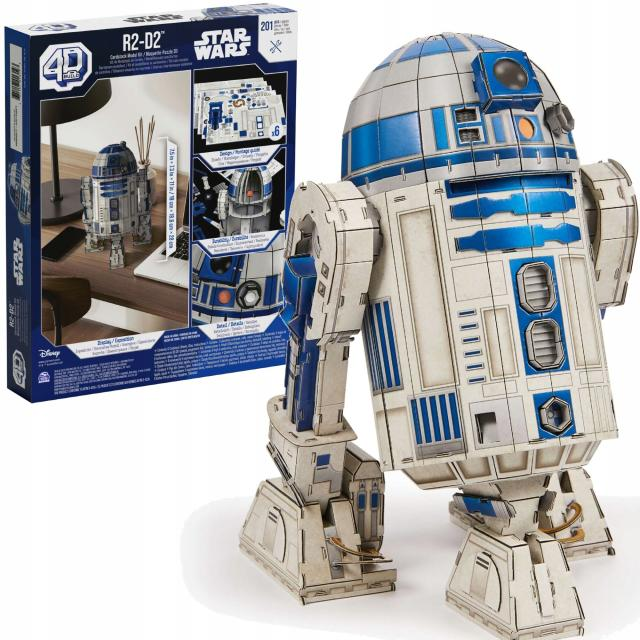r2-d2: (248, 30, 640, 640), (64, 136, 159, 269)
